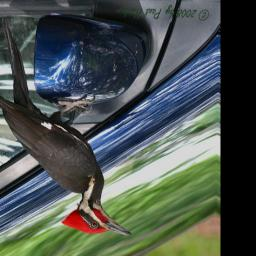Woodpecker: (0, 16, 138, 238)
